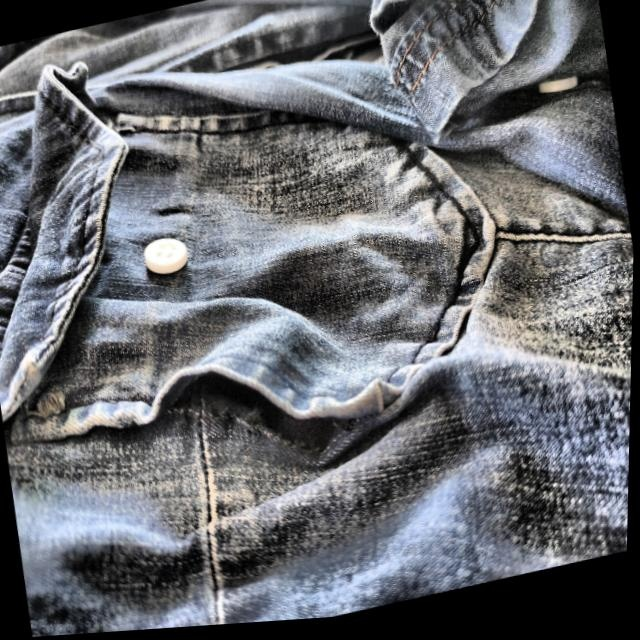seam: (117, 322, 392, 492)
